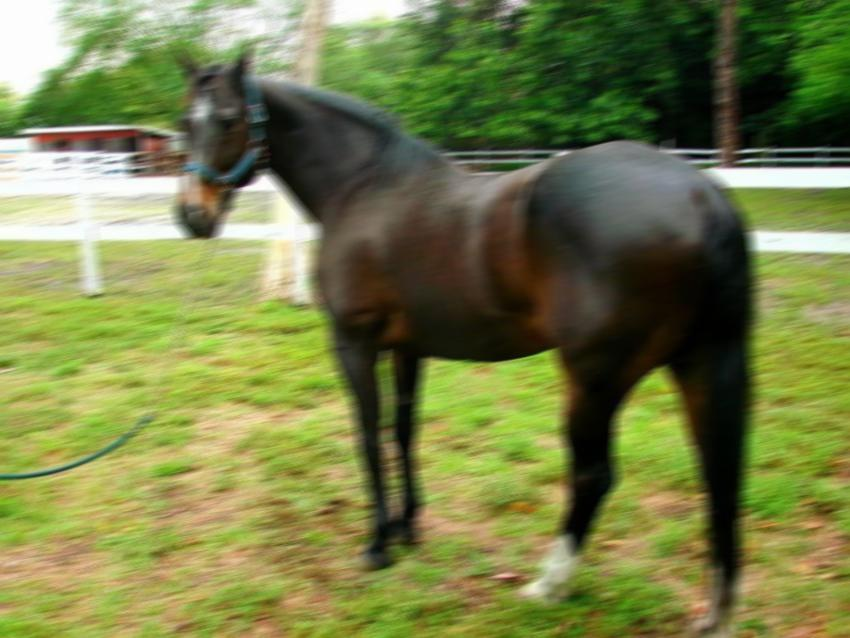horse: (164, 35, 767, 638)
